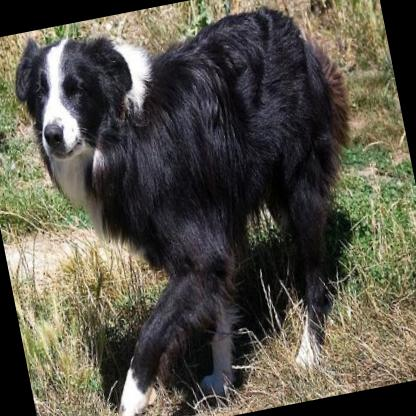collie: (1, 0, 403, 416)
